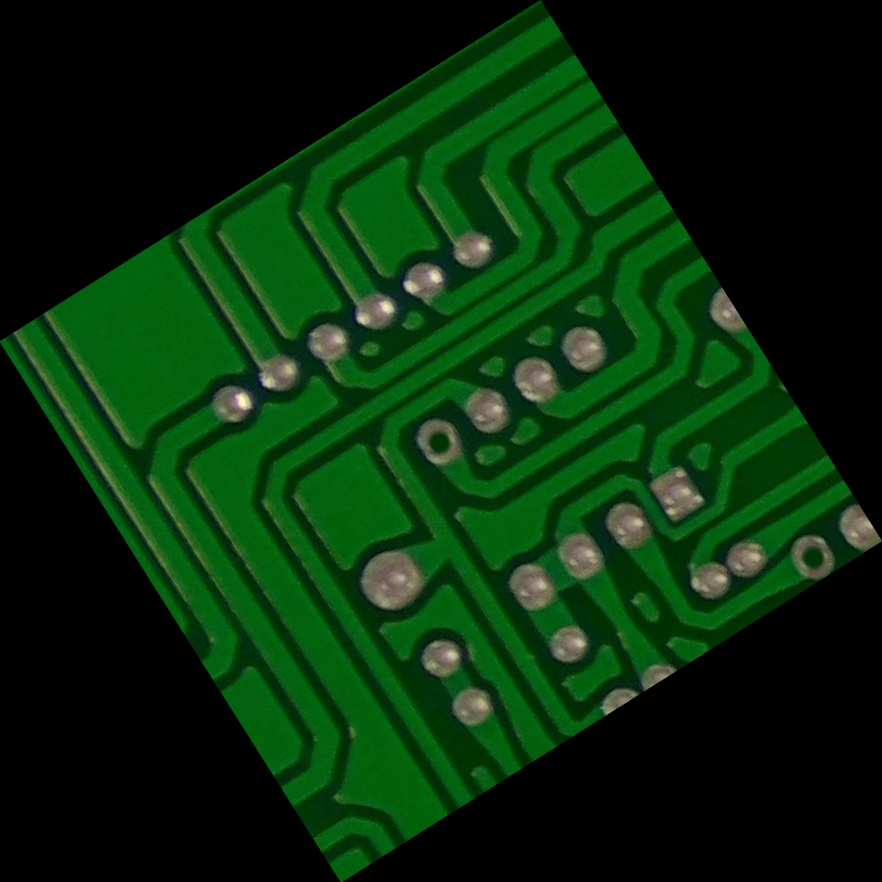missing_hole: (771, 514, 851, 592), (399, 401, 477, 480)
